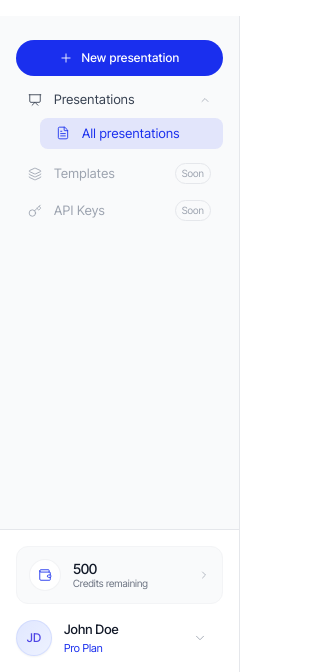
Test case: Sidebar › Navigation › should toggle Presentations section
The width and height of the screenshot is (320, 672).
Expected: the link "All presentations" is shown, 40,118 -> 223,149
Note: Click to close
Click the text "Presentations" at (120, 99), box 28,91 -> 211,107
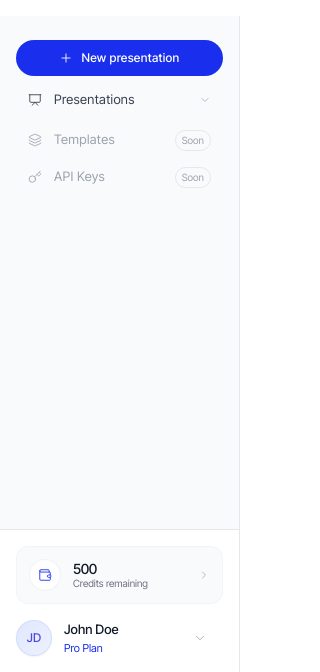
Expected: the link "All presentations" is gone
Note: Click to open again
Click the text "Presentations" at (120, 99), box 28,91 -> 211,107
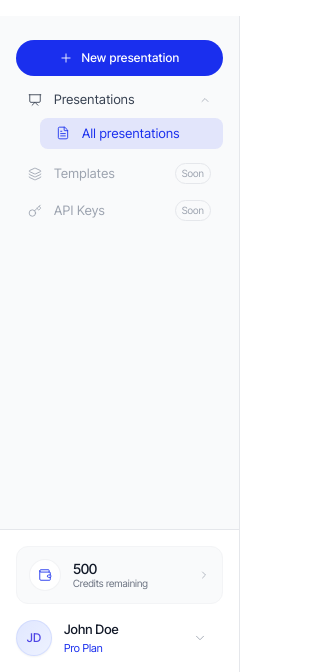
Expected: the link "All presentations" is shown, 40,118 -> 223,149
